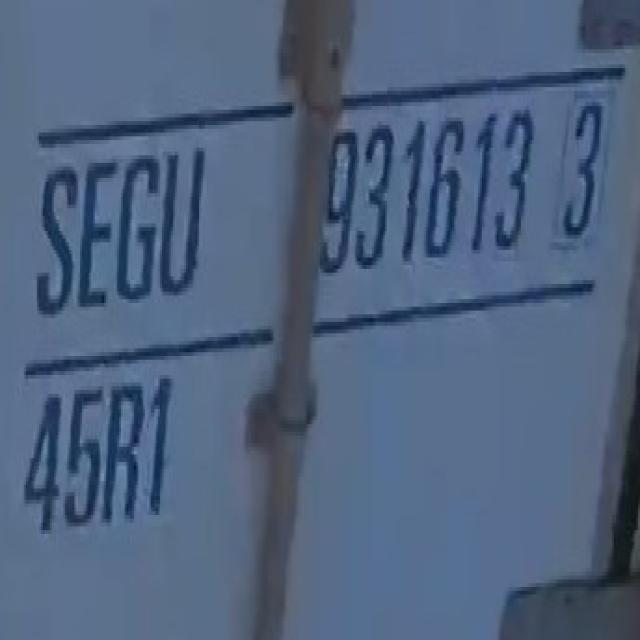dv: (549, 82, 620, 263)
owner: (27, 144, 218, 327)
serial: (322, 95, 534, 288)
size: (16, 374, 191, 543)
